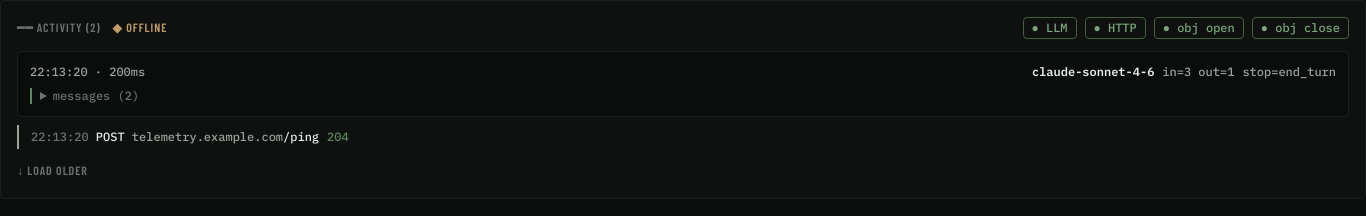
it: AgentTimeline › filter toggle hides the matching event kind
This screenshot has width=1366, height=216.
Expected: the text "claude-sonnet-4-6" is shown, [1032,64,1154,79]
Click the button "● HTTP" at (1115, 28), box [1084,17,1146,39]
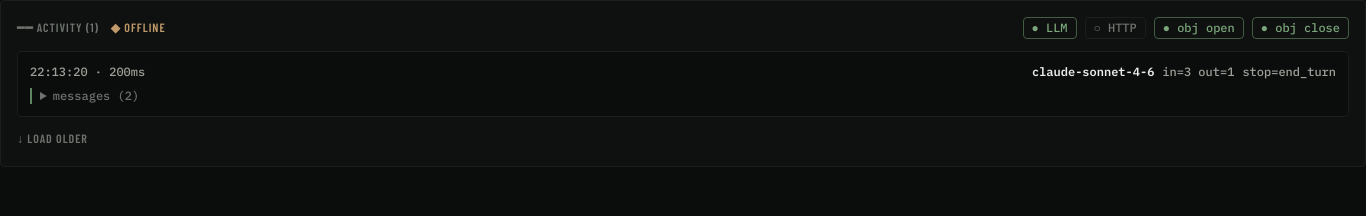
Expected: the text "claude-sonnet-4-6" is shown, [1032,64,1154,79]
Now the text "telemetry.example.com" is gone
